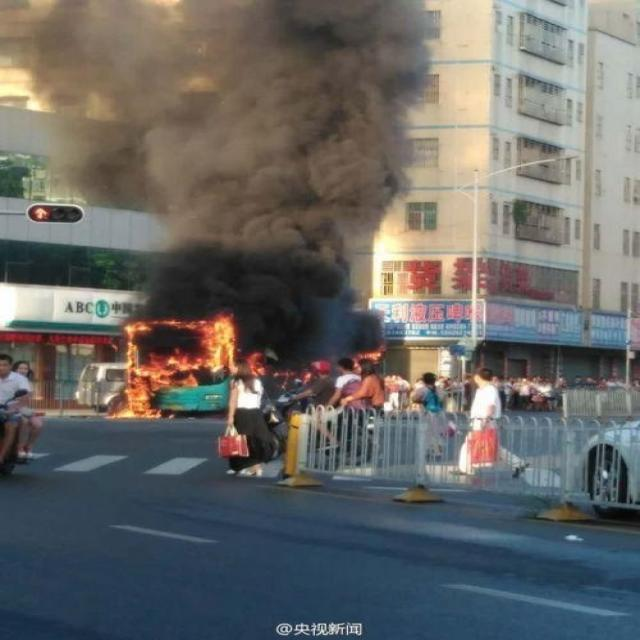Fire: (102, 311, 268, 420), (352, 351, 384, 374)
Smoke: (1, 1, 433, 318)
